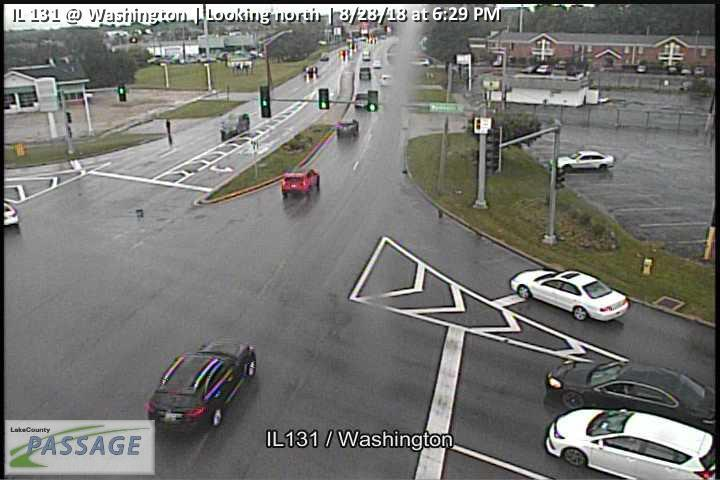Sedan: (542, 356, 720, 441), (547, 405, 720, 480), (144, 338, 258, 432), (511, 266, 628, 321), (551, 148, 615, 172), (280, 167, 320, 197)
